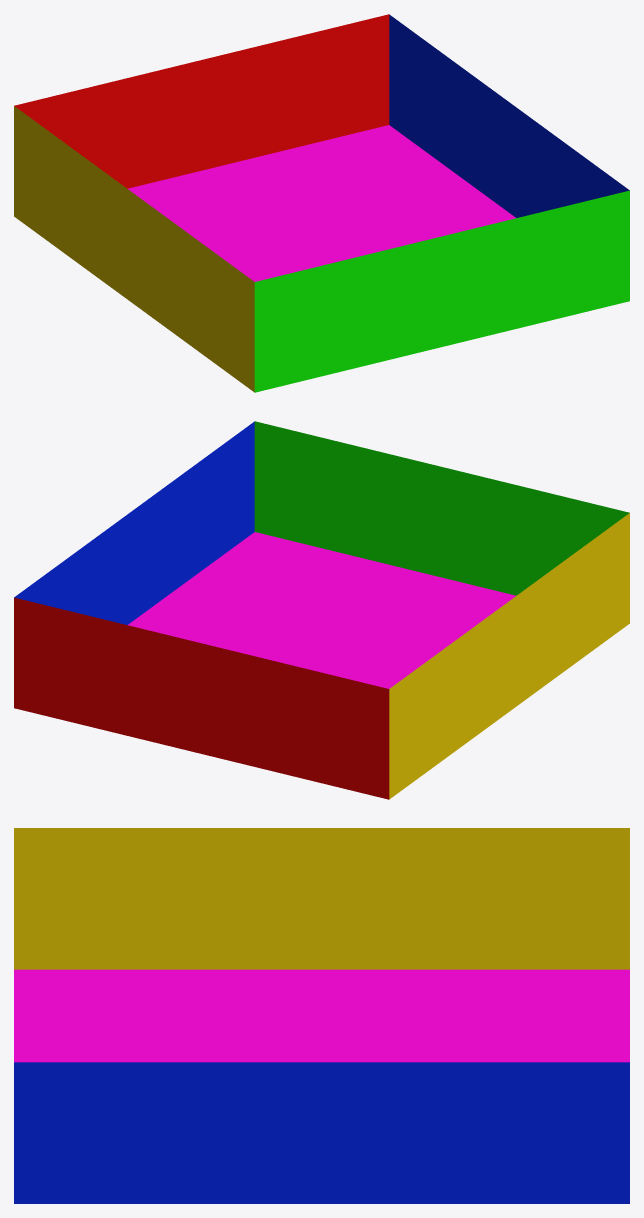
File: sala_IDEAL.fbx
The picture shows the model from 3 angles, top to bottom: view 1: azimuth 30°, elevation 25°; view 2: azimuth 150°, elevation 25°; view 3: azimuth 270°, elevation 25°; orthographic projection. The views are drawn at different scales.
Parts seen in each view (by area): view 1: SCREENS, floor; view 2: SCREENS, floor; view 3: SCREENS, floor.
Boxes of the visible parts, x1=… form: SCREENS: x1=14, y1=14, x2=629, y2=392; floor: x1=127, y1=125, x2=516, y2=281; SCREENS: x1=14, y1=421, x2=629, y2=799; floor: x1=127, y1=532, x2=516, y2=688; SCREENS: x1=14, y1=828, x2=629, y2=1203; floor: x1=14, y1=969, x2=629, y2=1062.
Bounding box in the file's own units: 2128 × 600 × 2366.
